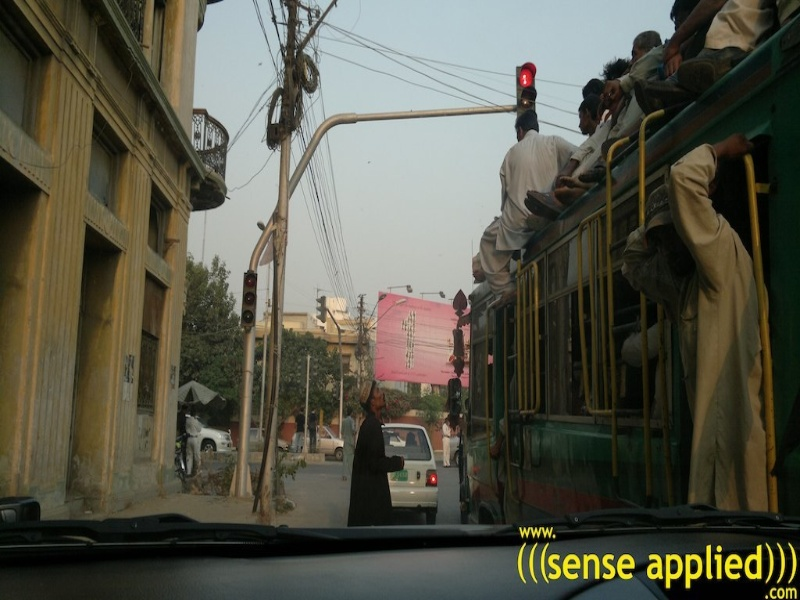red_light: (507, 52, 545, 127)
